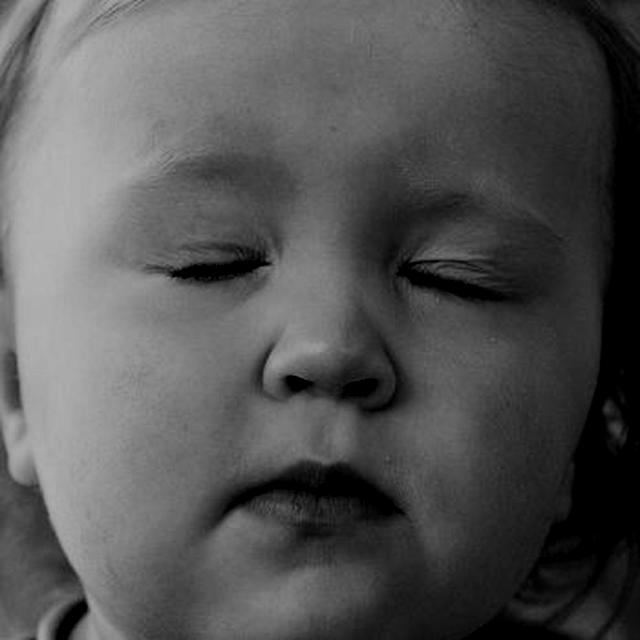real: (52, 55, 589, 627), (120, 186, 566, 346)
